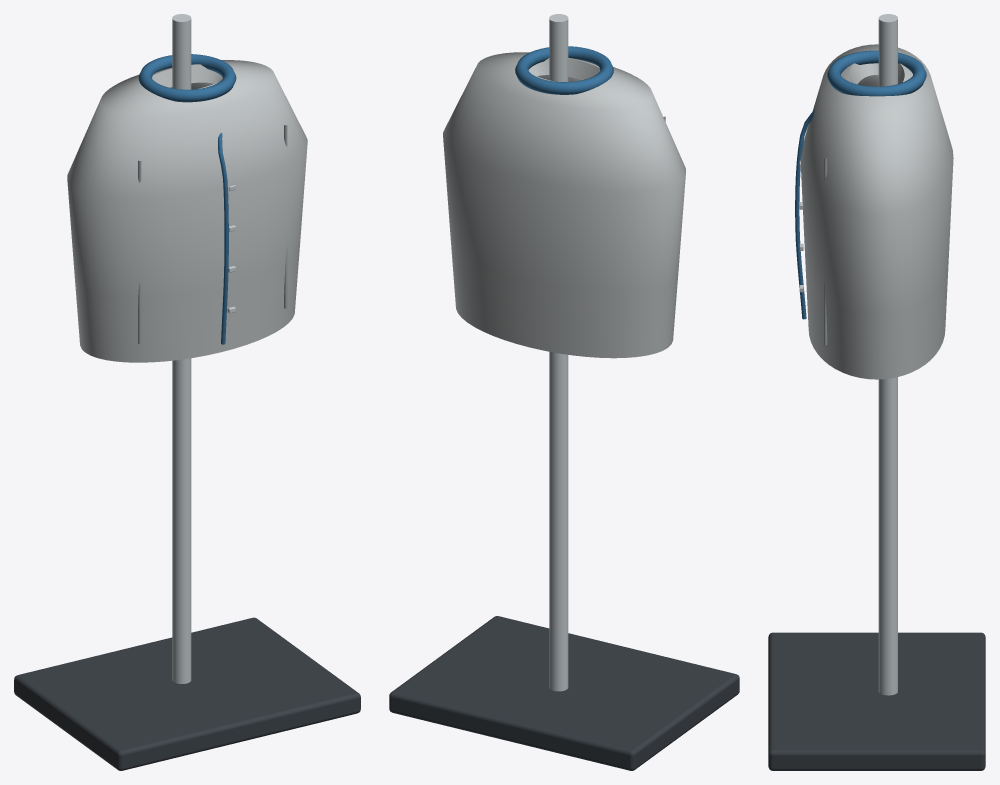
File: fencing-club-and-tournament-piste-lame-vest-b2b4adf2__31228.glb
The picture shows the model from 3 angles, left to right: view 1: azimuth 30°, elevation 25°; view 2: azimuth 150°, elevation 25°; view 3: azimuth 270°, elevation 25°; orthographic projection.
Parts seen in each view (by area): view 1: lame-vest; view 2: lame-vest; view 3: lame-vest.
Boxes of the visible parts, bbox=[...] form: lame-vest: bbox=[14, 14, 360, 770]; lame-vest: bbox=[389, 14, 739, 770]; lame-vest: bbox=[768, 14, 985, 770].
Bounding box in the file's own units: 0.5 × 1.34 × 0.38.
